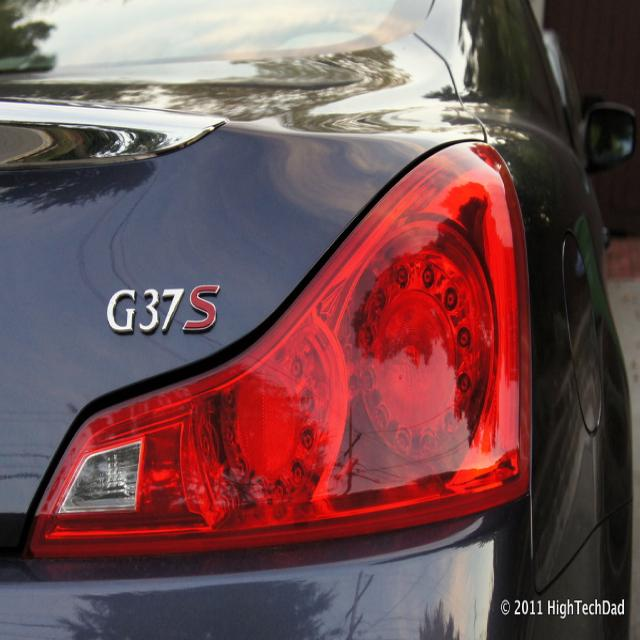car: (0, 0, 632, 638)
